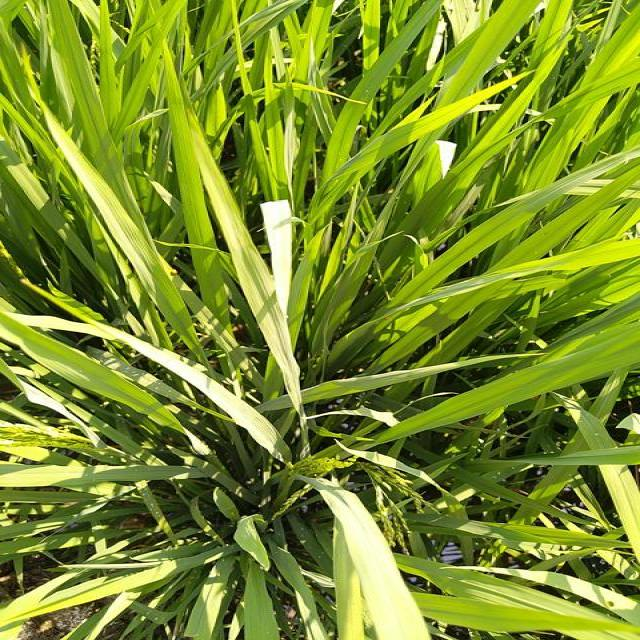Rice: (346, 172, 636, 331), (318, 329, 636, 454), (454, 18, 640, 174), (0, 311, 185, 431), (42, 0, 140, 224), (230, 221, 312, 439), (172, 65, 233, 328), (312, 483, 412, 640), (409, 590, 640, 640), (447, 0, 532, 114), (183, 555, 234, 640), (239, 558, 280, 640), (234, 503, 272, 572)
